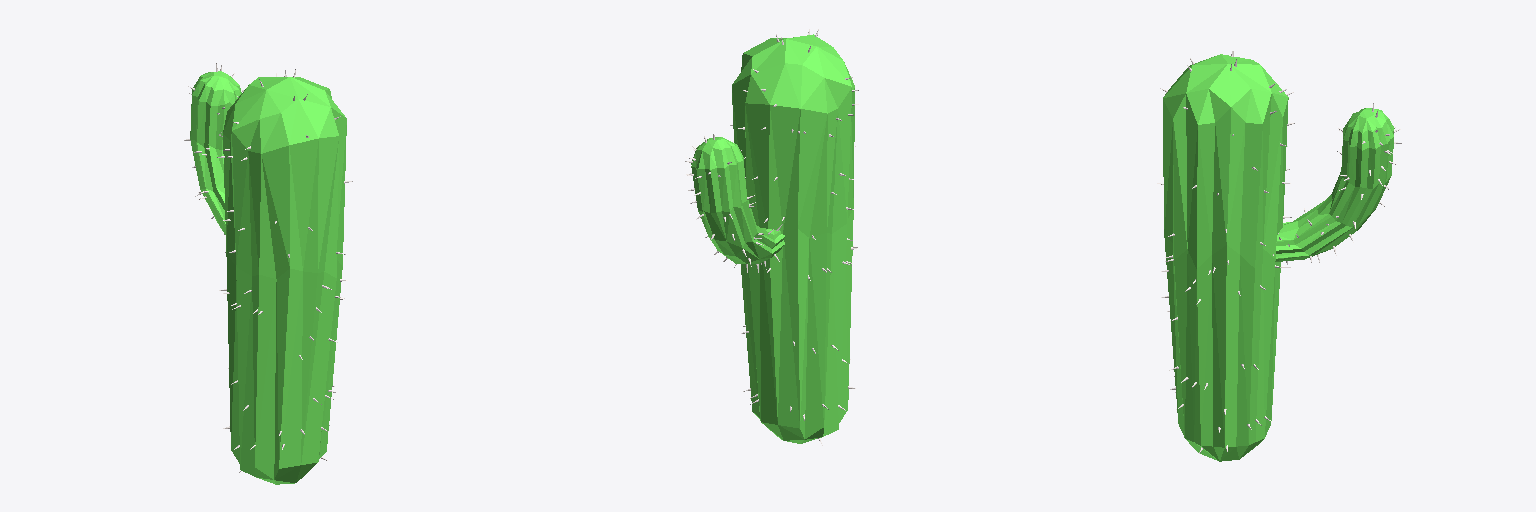
The model's file is Cactus06.obj.
The picture shows the model from 3 angles: view 1: azimuth 30°, elevation 25°; view 2: azimuth 150°, elevation 25°; view 3: azimuth 270°, elevation 25°; orthographic projection.
Visible parts, largest first — view 1: Circle, x_Circle.001, Cone; view 2: Circle, x_Circle.001, Cone; view 3: Circle, x_Circle.001, Cone.
Part boxes in pixels (bbox=[...]): Circle: bbox=[223, 77, 346, 484]; x_Circle.001: bbox=[190, 71, 241, 234]; Cone: bbox=[184, 63, 352, 472]; Circle: bbox=[732, 34, 854, 443]; x_Circle.001: bbox=[691, 137, 784, 263]; Cone: bbox=[685, 29, 858, 445]; Circle: bbox=[1163, 54, 1288, 461]; x_Circle.001: bbox=[1275, 108, 1394, 261]; Cone: bbox=[1157, 51, 1401, 453].
Bounding box in the file's own units: 2.98 × 9.52 × 5.26.